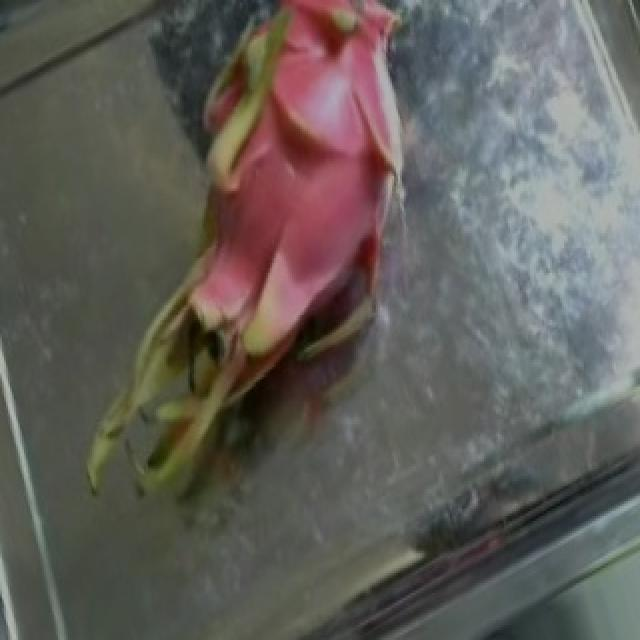fruit: (26, 0, 426, 479)
